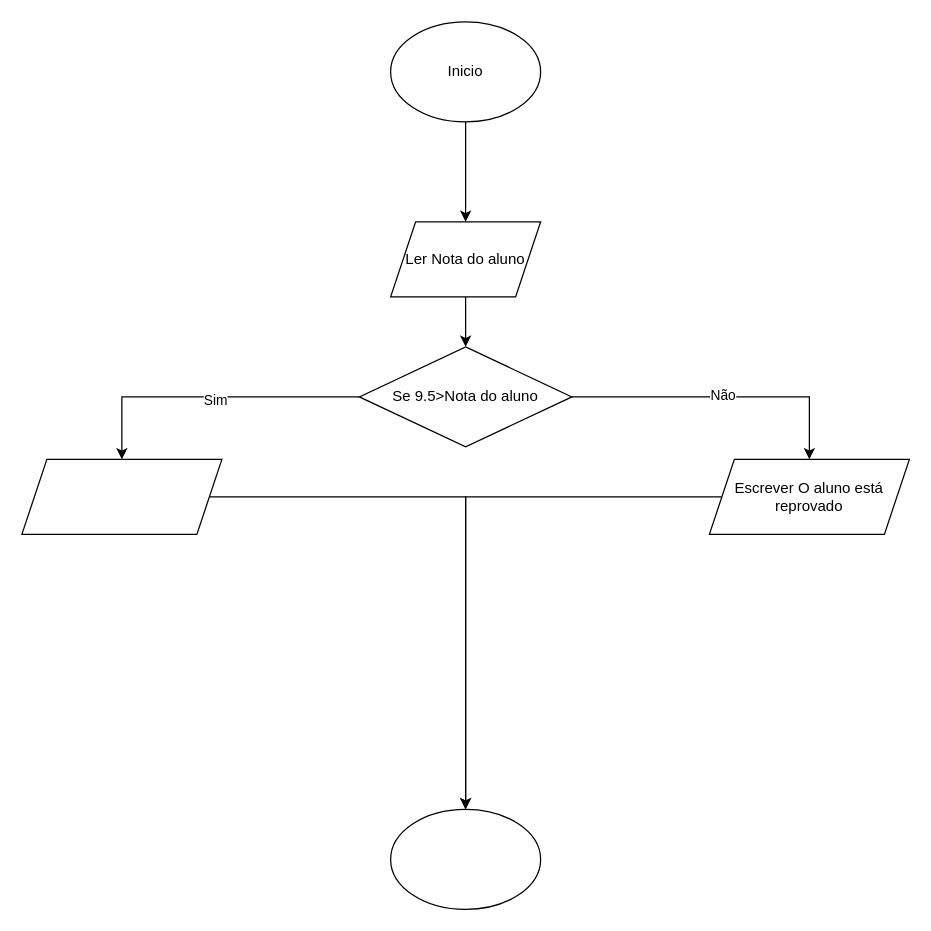
Some shapes in this 931 by 931 pixel diagram are drawn without their labels. Here are the shapes that lost their labels. From the top down, the box of each, then its label:
(21, 458, 222, 534): Escrever O aluno está aprovado
(389, 808, 541, 909): Fim
